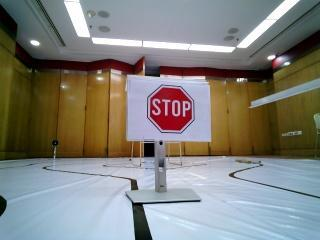stop: (129, 77, 202, 141)
